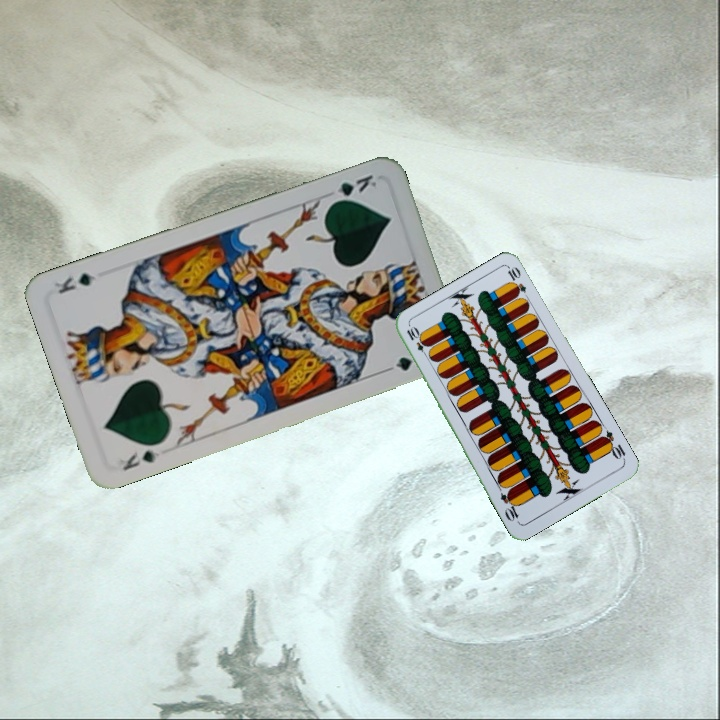E10: (597, 427, 628, 464), (402, 323, 432, 360)
GK: (326, 170, 379, 207), (119, 446, 162, 473)
